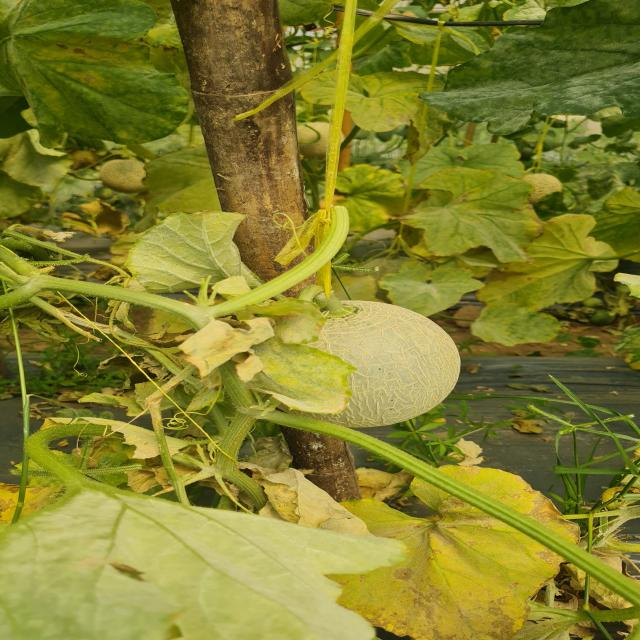melon: (296, 300, 460, 428)
